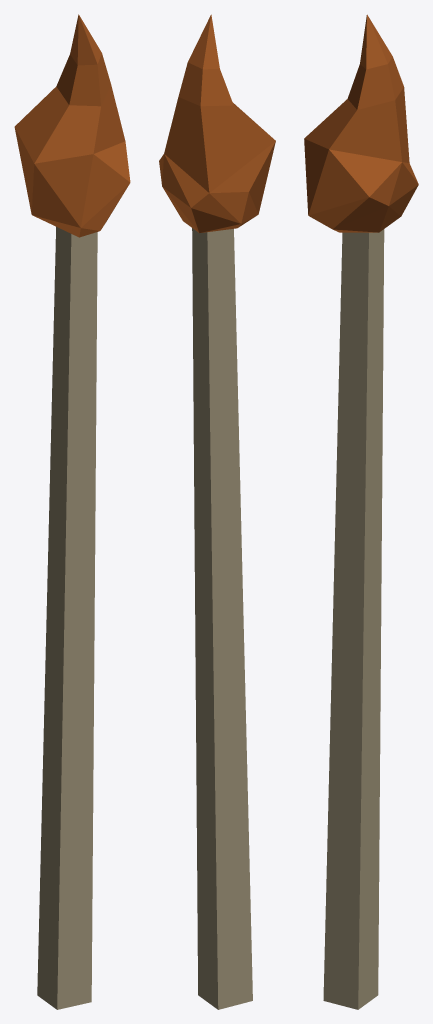
The model's file is match_fire.glb.
3 renders of one model, left to right at view 1: azimuth 30°, elevation 25°; view 2: azimuth 210°, elevation 25°; view 3: azimuth 330°, elevation 25°, orthographic.
Visible parts, largest first — view 1: Match_Fire; view 2: Match_Fire; view 3: Match_Fire.
Part boxes in pixels (x1,y1,x2,y2): Match_Fire: (14, 14, 130, 1009); Match_Fire: (159, 14, 275, 1009); Match_Fire: (304, 14, 418, 1009).
Bounding box in the file's own units: 0.0689 × 0.6853 × 0.0703.
